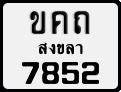letters: (20, 61, 40, 85), (41, 61, 60, 85), (61, 61, 80, 85), (81, 61, 100, 85), (50, 10, 68, 35), (72, 11, 90, 35), (29, 10, 46, 34)
province: (37, 42, 85, 55)
